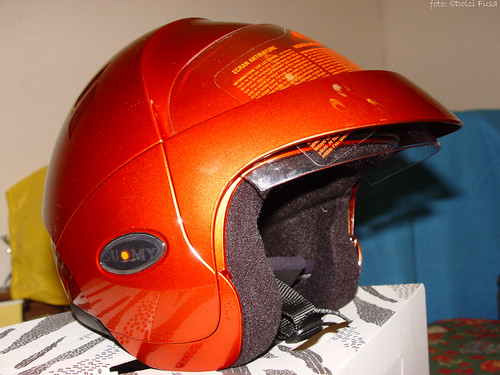helmet: (28, 3, 474, 370)
